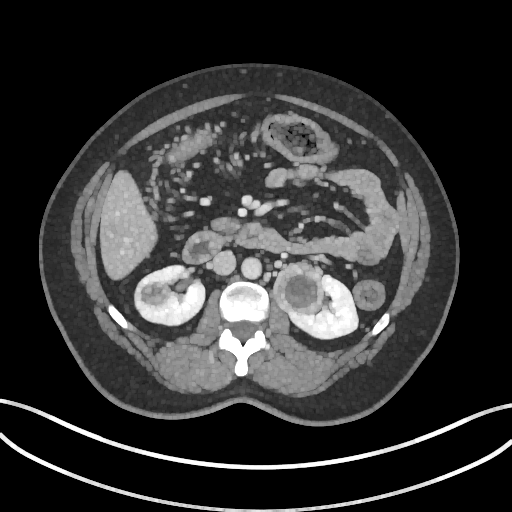Lesion: (273, 256, 329, 320)
